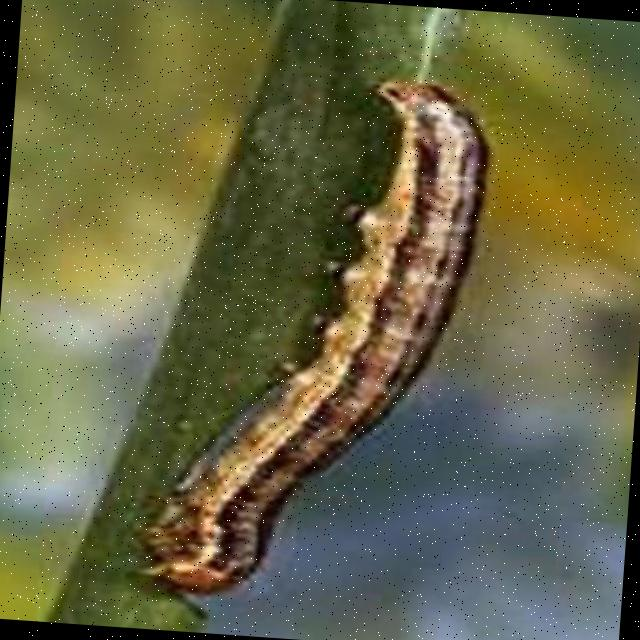worm: (124, 63, 497, 620)
